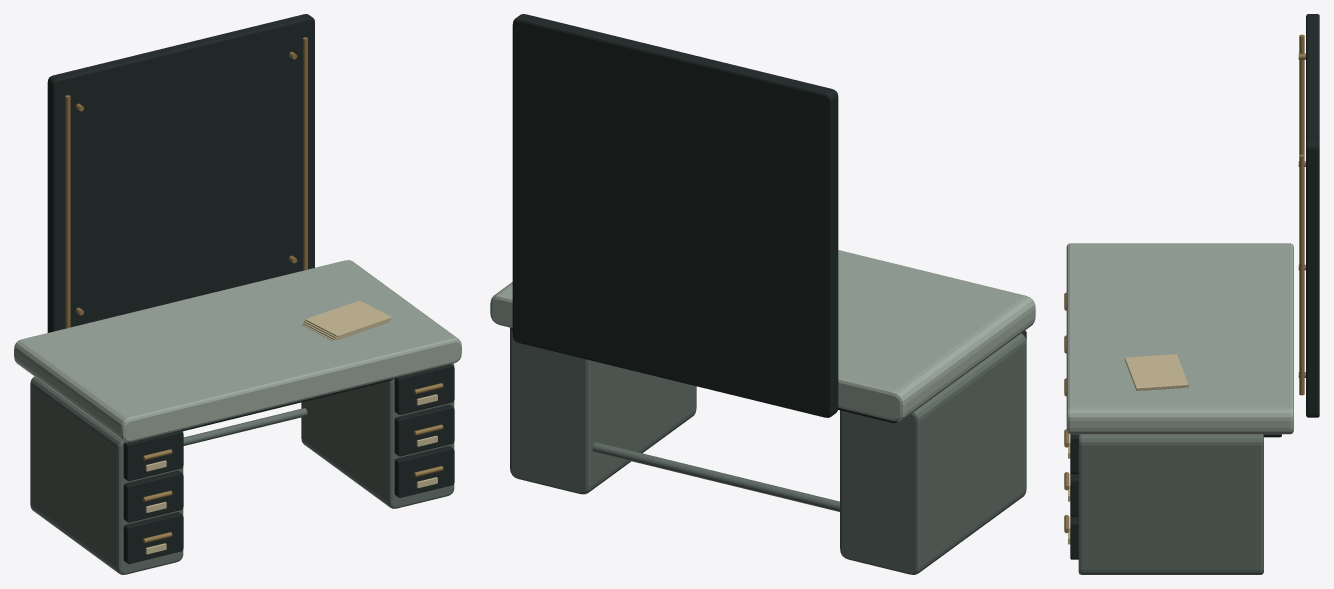
The model's file is archive-desk.glb.
The picture shows the model from 3 angles, left to right: view 1: azimuth 30°, elevation 25°; view 2: azimuth 150°, elevation 25°; view 3: azimuth 270°, elevation 25°; orthographic projection. The views are drawn at different scales.
Visible parts, largest first — view 1: archive-desk-dark, archive-desk-enamel, archive-desk-steel, archive-desk-brass, archive-desk-ivory; view 2: archive-desk-dark, archive-desk-steel, archive-desk-enamel; view 3: archive-desk-enamel, archive-desk-steel, archive-desk-dark, archive-desk-brass, archive-desk-ivory.
Part boxes in pixels (bbox=[...]): archive-desk-dark: bbox=[47, 14, 454, 563]; archive-desk-enamel: bbox=[14, 260, 461, 442]; archive-desk-steel: bbox=[30, 363, 454, 574]; archive-desk-brass: bbox=[65, 37, 443, 543]; archive-desk-ivory: bbox=[145, 300, 437, 554]; archive-desk-dark: bbox=[510, 14, 1026, 423]; archive-desk-steel: bbox=[510, 328, 1026, 574]; archive-desk-enamel: bbox=[490, 250, 1035, 421]; archive-desk-enamel: bbox=[1066, 243, 1293, 434]; archive-desk-steel: bbox=[1078, 434, 1263, 574]; archive-desk-dark: bbox=[1070, 14, 1319, 559]; archive-desk-brass: bbox=[1064, 34, 1305, 533]; archive-desk-ivory: bbox=[1068, 354, 1188, 544].
Size of the model in its own units: 2.24 by 2.54 by 1.41.
